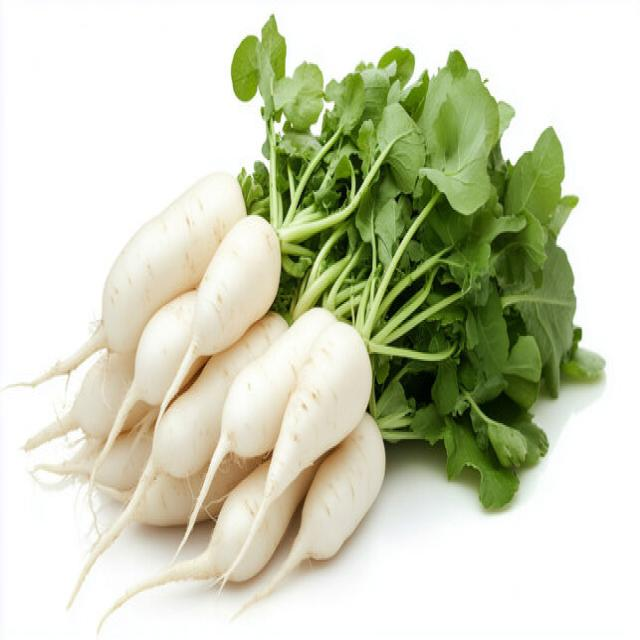Carrot: (4, 169, 247, 391), (96, 453, 314, 631), (154, 308, 289, 478)
Radish: (229, 11, 605, 512), (6, 167, 386, 629), (95, 315, 373, 629), (65, 210, 284, 606), (223, 409, 386, 620)
